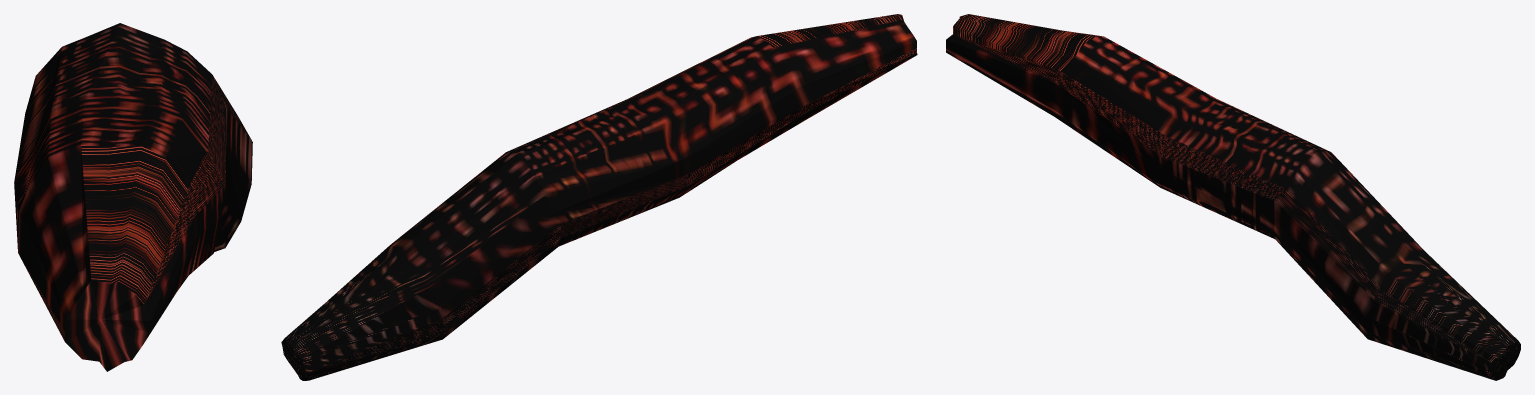
File: Twig.glb
3 views of the same model, side by side, from view 1: azimuth 30°, elevation 25°; view 2: azimuth 150°, elevation 25°; view 3: azimuth 270°, elevation 25° (orthographic). The views are drawn at different scales.
Parts seen in each view (by area): view 1: Twig; view 2: Twig; view 3: Twig.
Boxes of the visible parts, bbox=[...] form: Twig: bbox=[14, 23, 252, 371]; Twig: bbox=[281, 14, 917, 380]; Twig: bbox=[946, 14, 1520, 380].
Bounding box in the file's own units: 26.06 × 16.6 × 38.74.
1 material, 1 textured.
